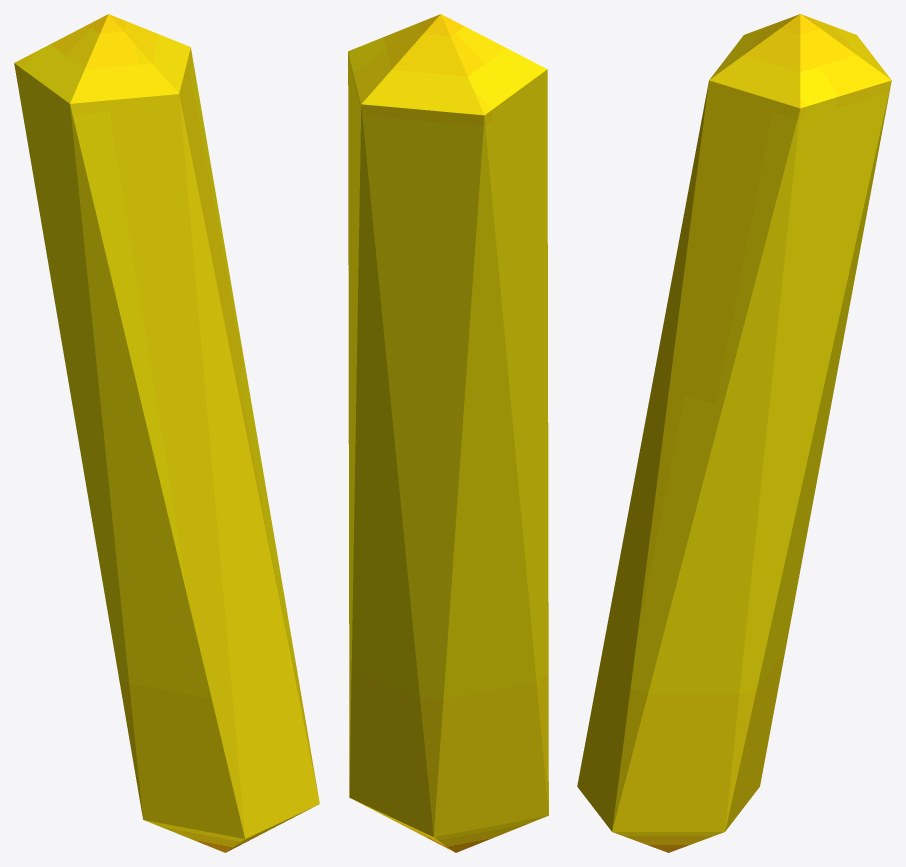
The model's file is Tutorial.031.obj.
3 renders of one model, left to right at view 1: azimuth 30°, elevation 25°; view 2: azimuth 150°, elevation 25°; view 3: azimuth 270°, elevation 25°, orthographic. The views are drawn at different scales.
Visible parts, largest first — view 1: Tutorial.030; view 2: Tutorial.030; view 3: Tutorial.030.
Part boxes in pixels (<box>): Tutorial.030: <box>14,14,319,852</box>; Tutorial.030: <box>348,14,548,852</box>; Tutorial.030: <box>577,14,891,852</box>.
Size of the model in its own units: 2.01 by 8.35 by 2.93.
1 material, 1 textured.
